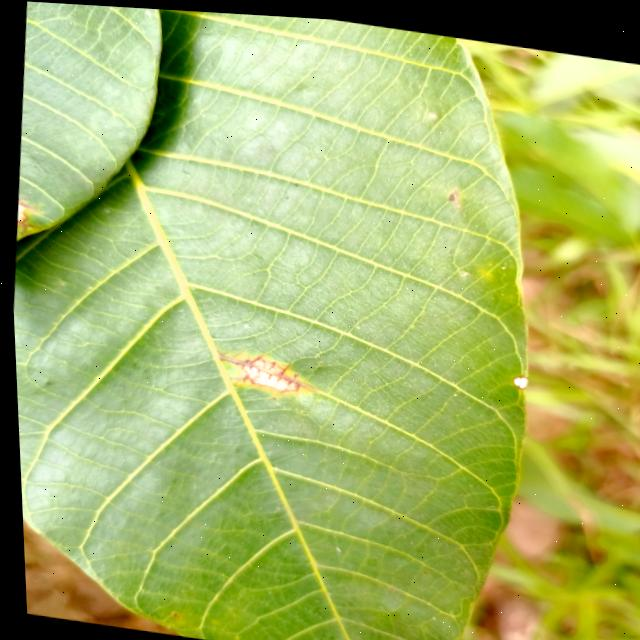Corynespora: (209, 345, 314, 392)
